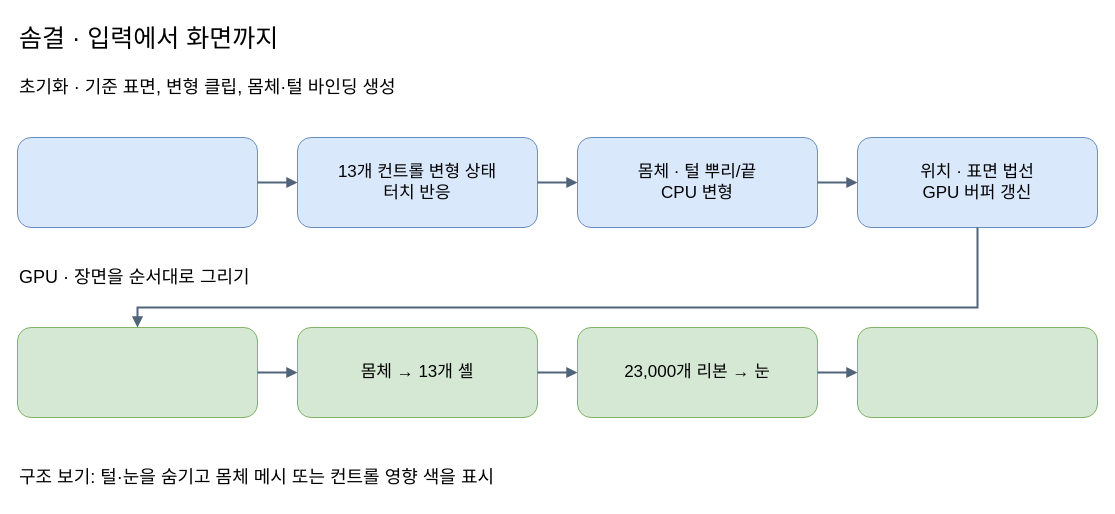
This 1115x514 diagram has some shape labels left out. Each missing label, with the centre of its shape:
"배경 · 바닥 그림자" belongs at [137,372].
"시간 · 포인터 모양 선택" belongs at [137,182].
"정사영 · CSS 흐림 최종 캔버스" belongs at [977,372].
